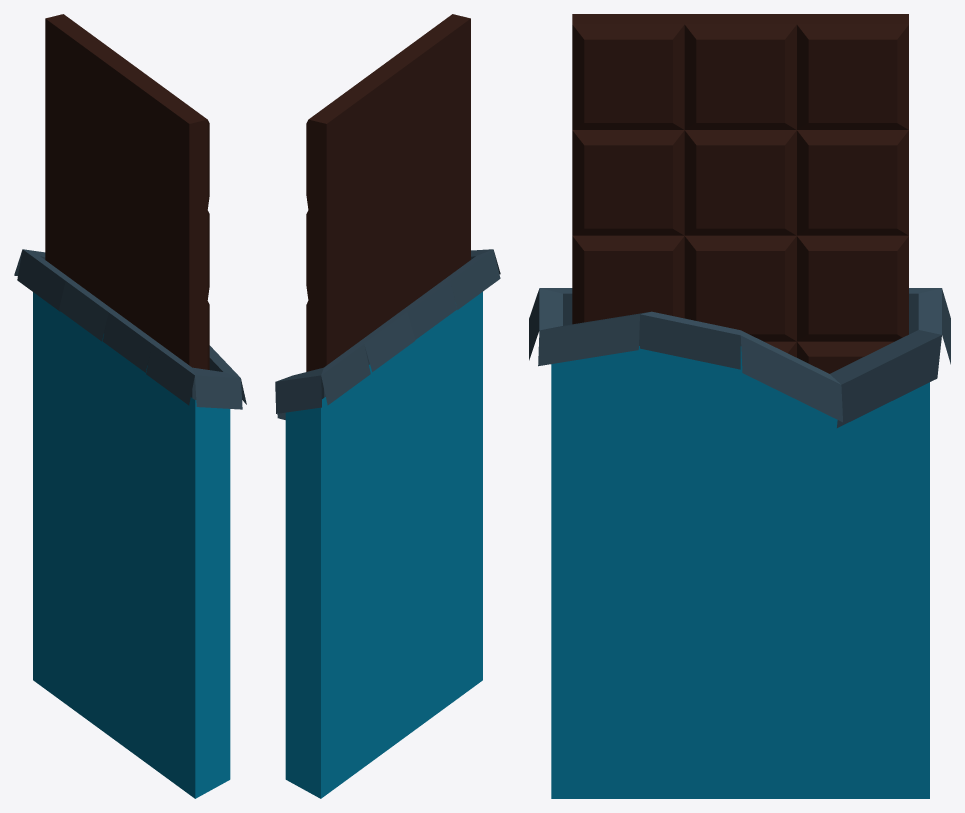
Rendered from Chocolate_01.obj.
3 renders of one model, left to right at view 1: azimuth 30°, elevation 25°; view 2: azimuth 150°, elevation 25°; view 3: azimuth 270°, elevation 25°, orthographic. The views are drawn at different scales.
Parts seen in each view (by area): view 1: Cube.024_Cube.025; view 2: Cube.024_Cube.025; view 3: Cube.024_Cube.025.
Part boxes in pixels (x1,y1,x2,y2): Cube.024_Cube.025: (14, 14, 246, 798); Cube.024_Cube.025: (275, 14, 500, 798); Cube.024_Cube.025: (529, 14, 950, 798).
Bounding box in the file's own units: 0.9508 × 10.06 × 4.94.
